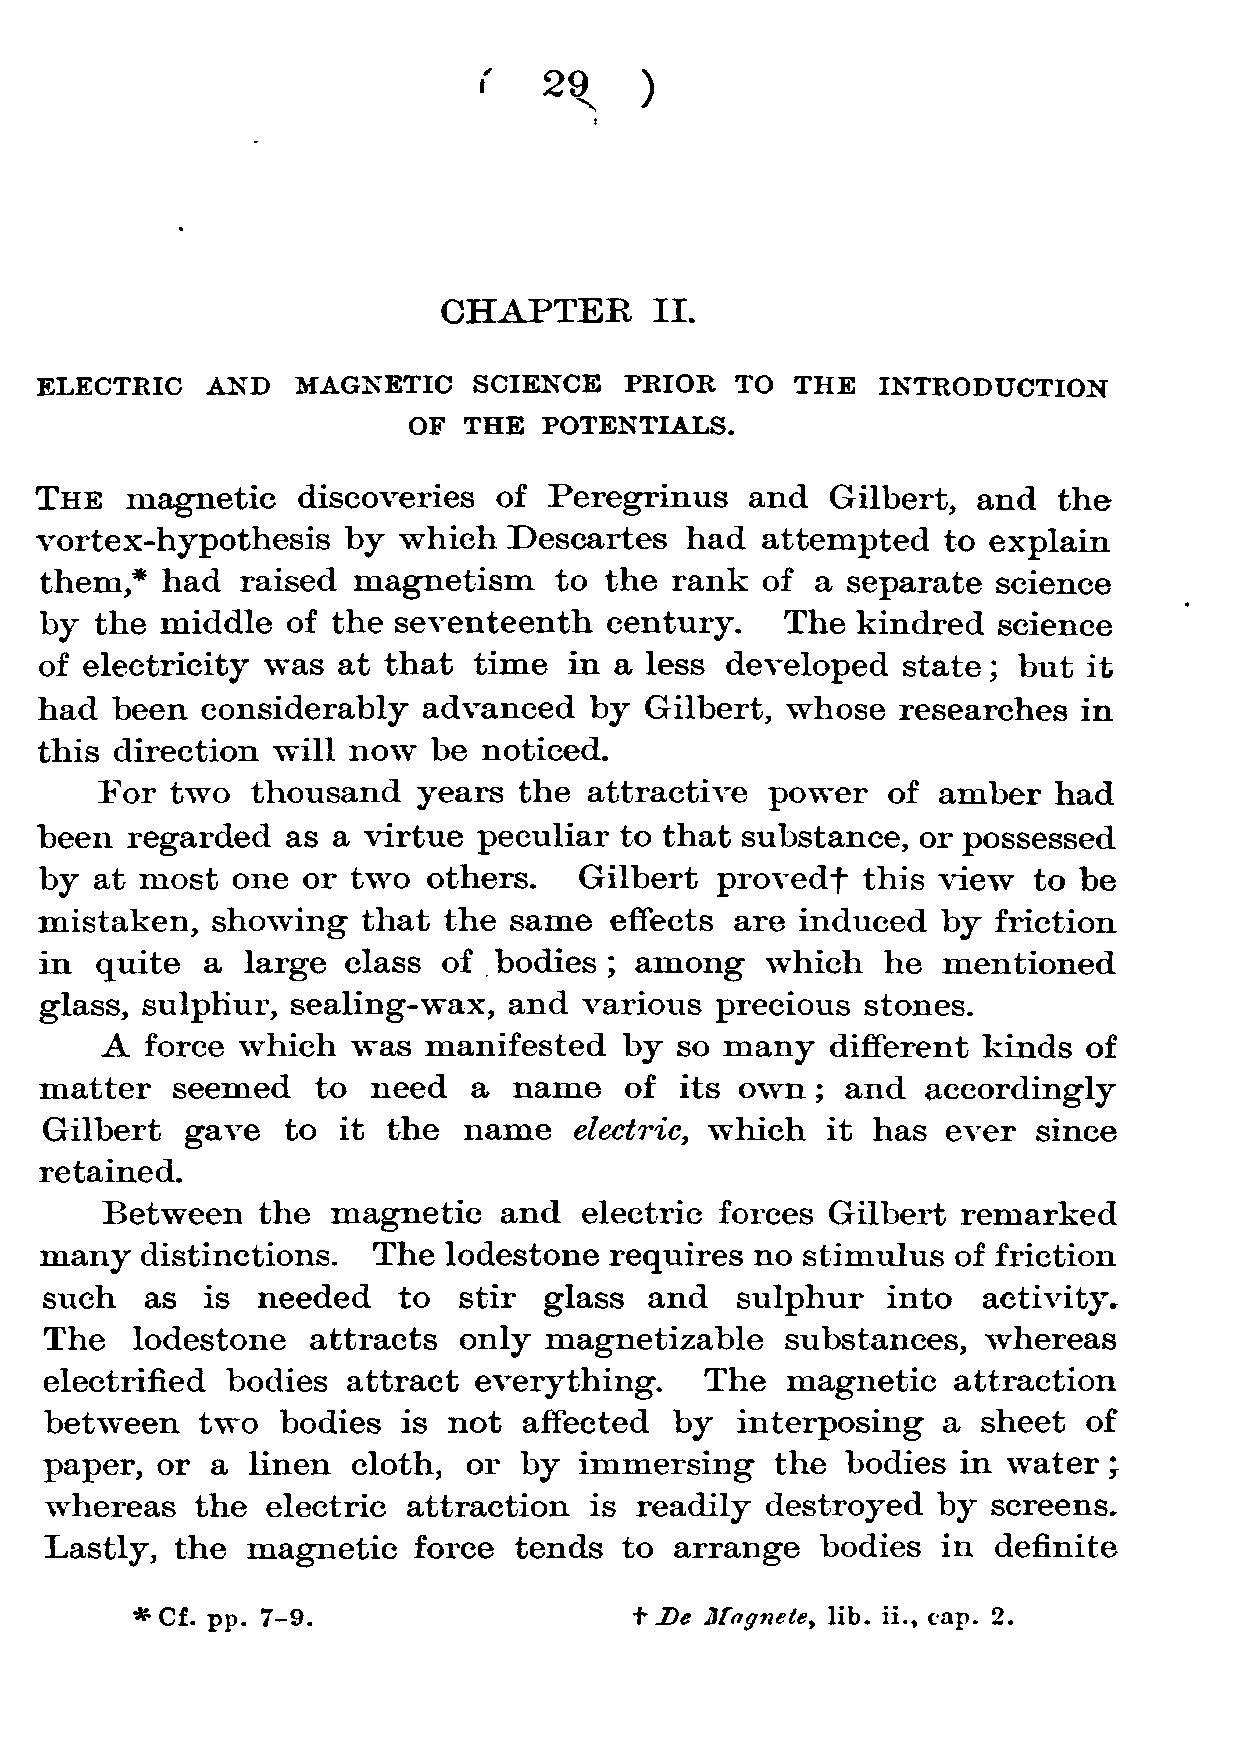chapter: (35, 295, 1108, 436)
content: (34, 482, 1119, 1570)
content_pagenumber: (537, 64, 590, 103)
